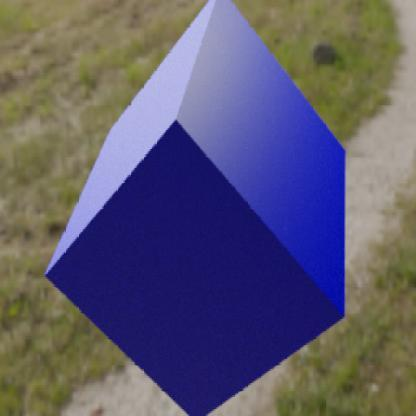blue_cube: (44, 0, 346, 415)
